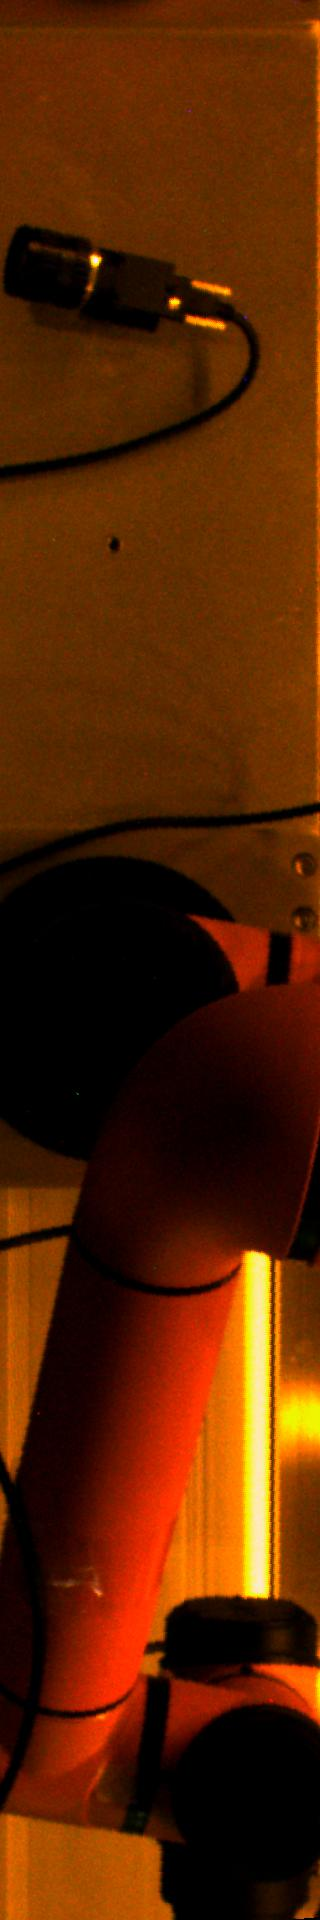keyPoint_2: (99, 531, 129, 561)
